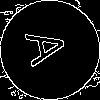A: (25, 25, 77, 68)
